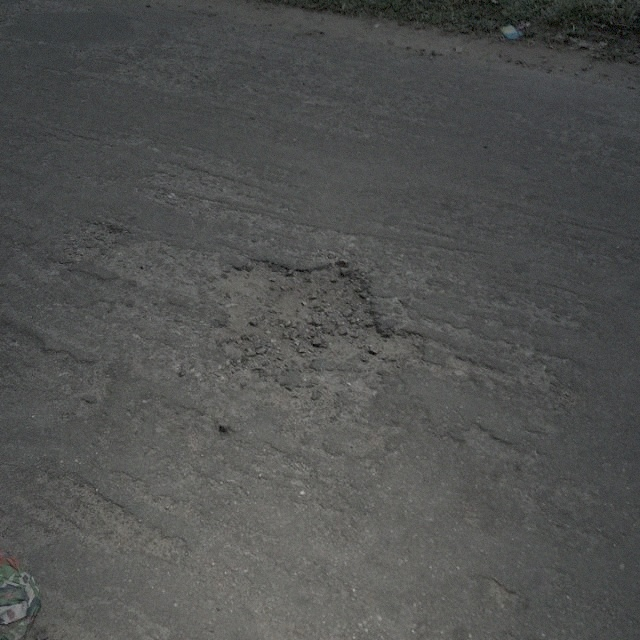pothole: (206, 250, 419, 372)
